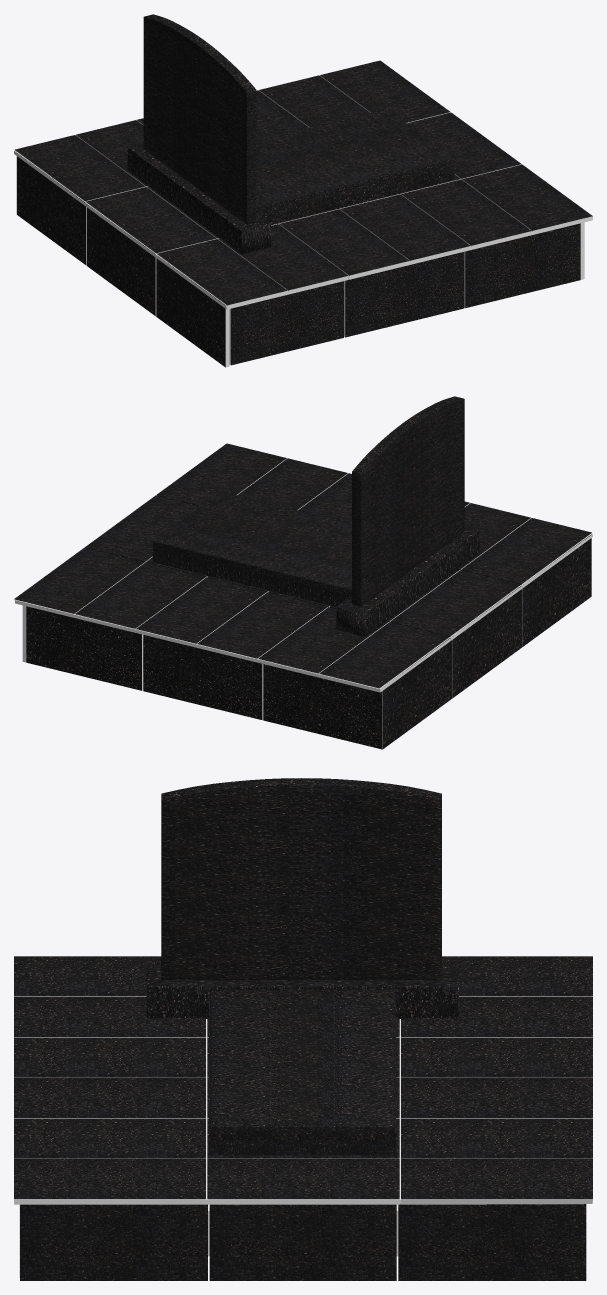
The model's file is кузнецова [u_2_u].glb.
3 views of the same model, one above another, from view 1: azimuth 30°, elevation 25°; view 2: azimuth 150°, elevation 25°; view 3: azimuth 270°, elevation 25° (orthographic). The views are drawn at different scales.
Parts seen in each view (by area): view 1: Куб.183, Куб.180, Cube.031, Куб.181, Cube.029, Куб.002, Куб.185; view 2: Куб.183, Куб.179, Cube.031, Куб.181, Cube.029, Куб.002, Куб.187; view 3: Куб.183, Cube.031, Куб.182, Cube.029, Куб.002, Куб.186.
Part boxes in pixels (<box>): Куб.183: <box>14,60,592,309</box>; Куб.180: <box>229,223,580,365</box>; Cube.031: <box>143,14,256,224</box>; Куб.181: <box>17,152,229,367</box>; Cube.029: <box>256,109,454,212</box>; Куб.002: <box>127,143,270,253</box>; Куб.185: <box>256,166,445,224</box>; Куб.183: <box>14,443,592,692</box>; Куб.179: <box>26,606,382,749</box>; Cube.031: <box>352,396,464,606</box>; Куб.181: <box>382,534,591,748</box>; Cube.029: <box>153,491,351,595</box>; Куб.002: <box>336,526,479,636</box>; Куб.187: <box>165,550,350,606</box>; Куб.183: <box>14,956,592,1204</box>; Cube.031: <box>161,778,441,979</box>; Куб.182: <box>20,1193,586,1280</box>; Cube.029: <box>210,989,395,1140</box>; Куб.002: <box>146,967,458,1018</box>; Куб.186: <box>209,1126,395,1154</box>.
Size of the model in its own units: 1.84 by 1.11 by 1.85.
Materials: 8 (5 with a texture image).
